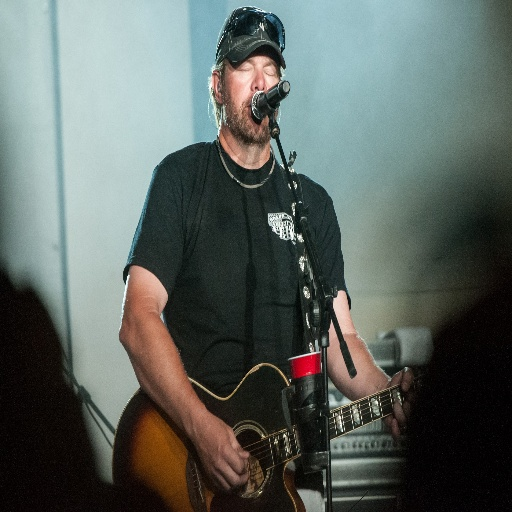hand: (178, 400, 257, 495), (383, 365, 418, 442)
